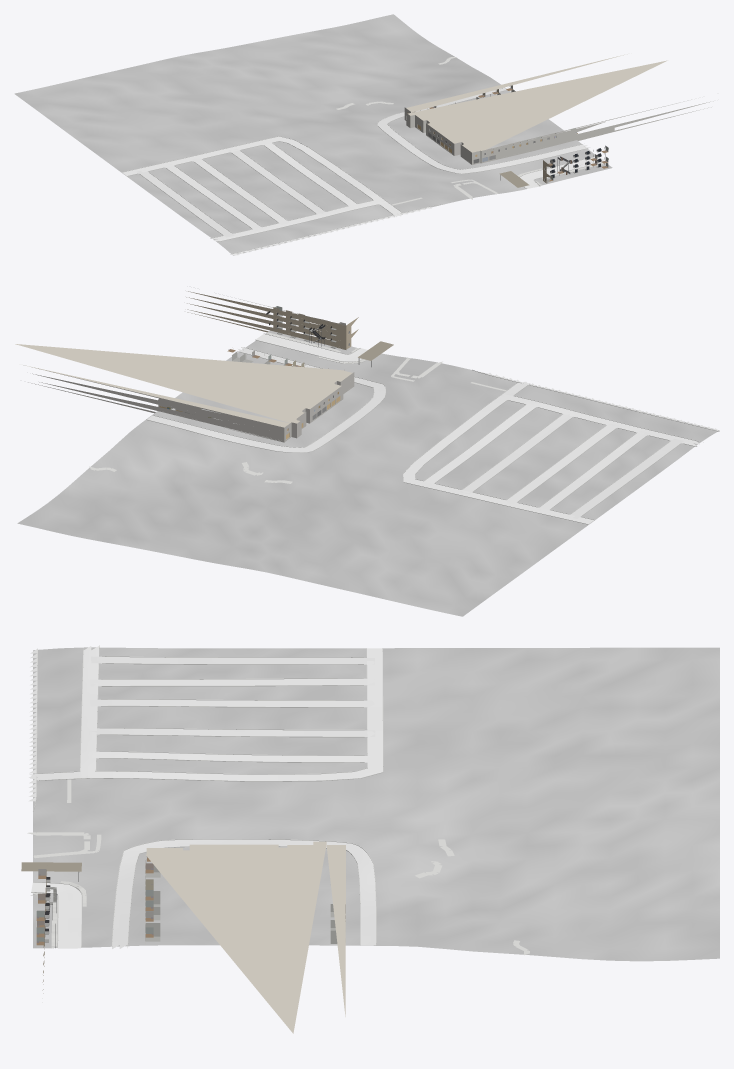
The picture shows the model from 3 angles, top to bottom: view 1: azimuth 30°, elevation 25°; view 2: azimuth 150°, elevation 25°; view 3: azimuth 270°, elevation 25°; orthographic projection. The views are drawn at different scales.
Parts seen in each view (by area): view 1: ground, concrete, roof_flat, wall_com, curb, walk, detail; view 2: ground, concrete, roof_flat, wall_com, curb, wall, walk; view 3: ground, concrete, roof_flat, curb, room, walk.
Boxes of the visible parts, x1=… form: ground: x1=14, y1=14, x2=612, y2=255; concrete: x1=122, y1=87, x2=604, y2=255; roof_flat: x1=406, y1=54, x2=667, y2=187; wall_com: x1=404, y1=99, x2=713, y2=180; curb: x1=122, y1=90, x2=605, y2=254; walk: x1=336, y1=57, x2=605, y2=205; detail: x1=406, y1=86, x2=605, y2=180; ground: x1=17, y1=329, x2=719, y2=616; concrete: x1=147, y1=334, x2=718, y2=524; roof_flat: x1=15, y1=341, x2=393, y2=427; wall_com: x1=28, y1=358, x2=371, y2=442; curb: x1=146, y1=333, x2=719, y2=524; wall: x1=186, y1=291, x2=358, y2=349; walk: x1=89, y1=332, x2=506, y2=483; ground: x1=33, y1=647, x2=719, y2=961; concrete: x1=28, y1=646, x2=382, y2=948; roof_flat: x1=21, y1=841, x2=345, y2=1033; curb: x1=31, y1=645, x2=383, y2=947; room: x1=36, y1=857, x2=337, y2=945; walk: x1=27, y1=779, x2=529, y2=955.
Size of the model in its own units: 345 by 18.42 by 257.
